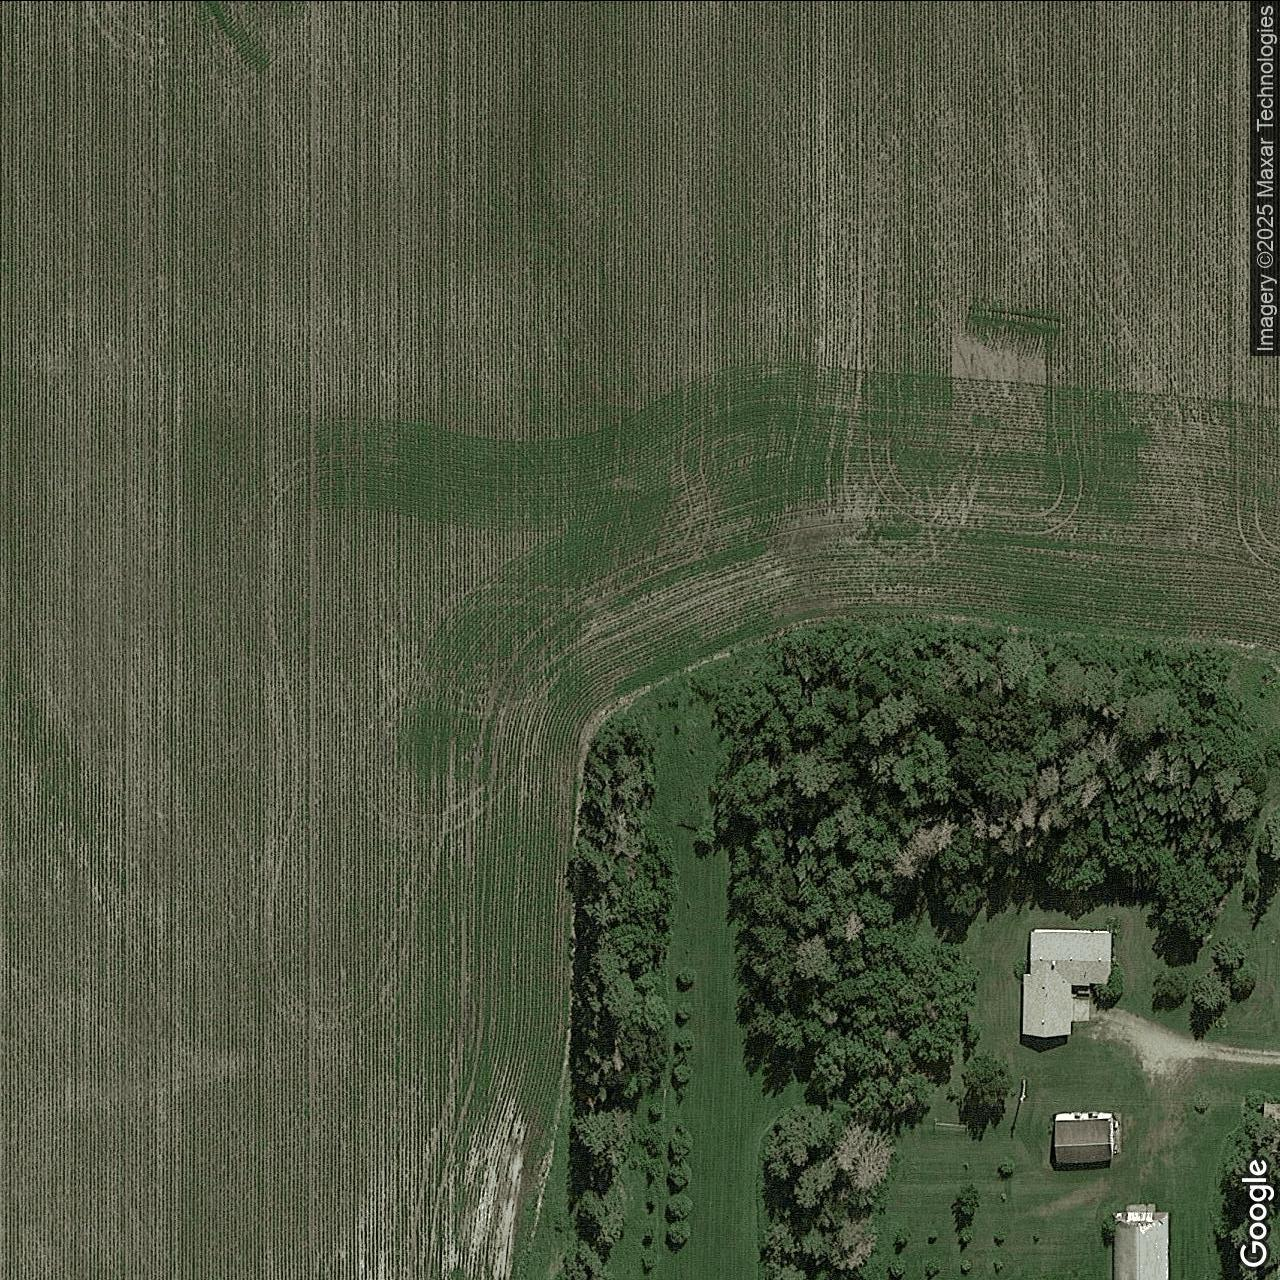Garage: (1055, 1112, 1113, 1162)
House: (1022, 928, 1111, 1037), (1112, 1211, 1169, 1280)
